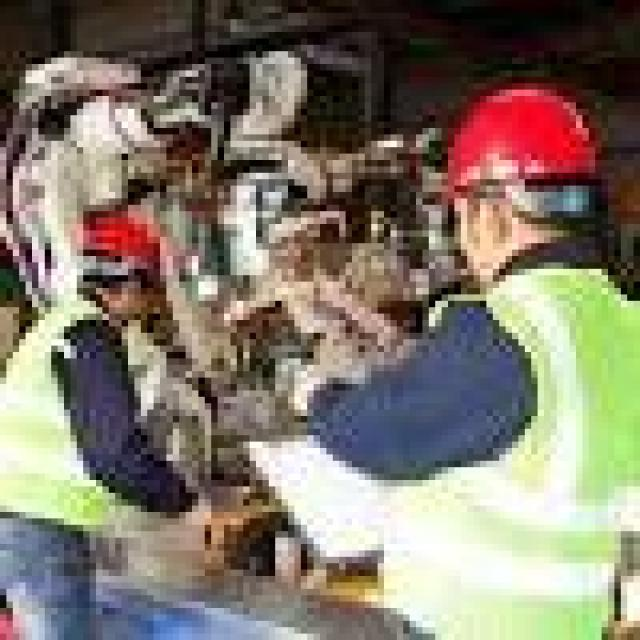Reflective-Jacket: (409, 249, 640, 633)
Safety-Helmet: (410, 70, 634, 224)
